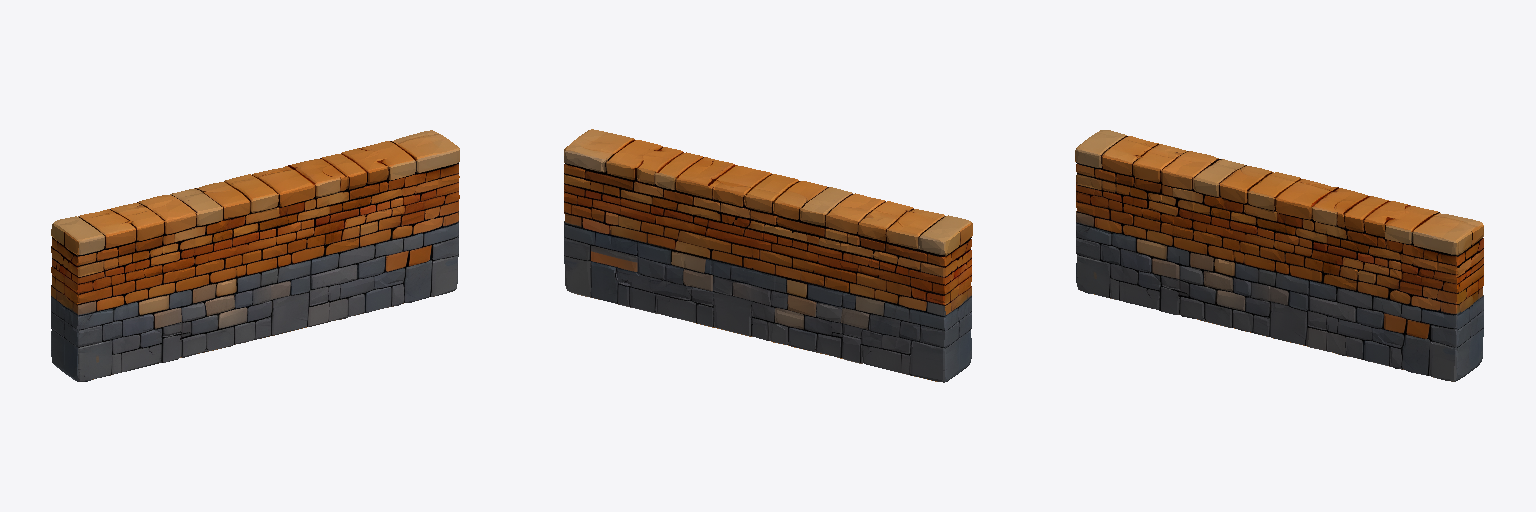
3 views of the same model, side by side, from view 1: azimuth 30°, elevation 25°; view 2: azimuth 150°, elevation 25°; view 3: azimuth 330°, elevation 25° (orthographic).
Parts seen in each view (by area): view 1: 2_1234_50_5.0_384_8000; view 2: 2_1234_50_5.0_384_8000; view 3: 2_1234_50_5.0_384_8000.
Part boxes in pixels (x1,y1,x2,y2): 2_1234_50_5.0_384_8000: (51, 130, 459, 381); 2_1234_50_5.0_384_8000: (564, 129, 972, 382); 2_1234_50_5.0_384_8000: (1075, 130, 1483, 381).
Size of the model in its own units: 2 by 0.7222 by 0.2634.
Materials: 1 (1 with a texture image).